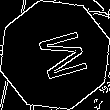M_W: (25, 26, 85, 84)
